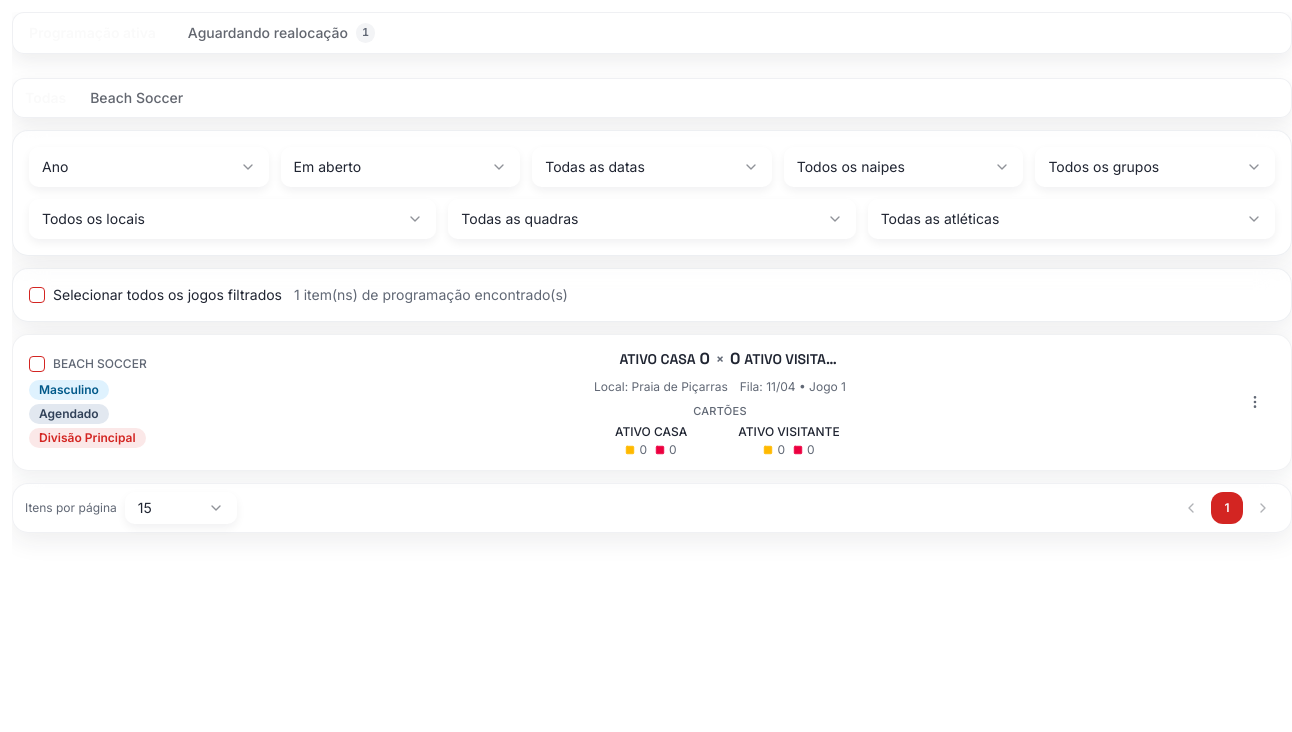
AdminMatches score sheet review › separa jogos guardados em uma subaba para realocação
Expected: the text "PENDENTE CASA" is not shown
Click the tab "Aguardando realocação 1": point(282, 33) [172,13,391,53]
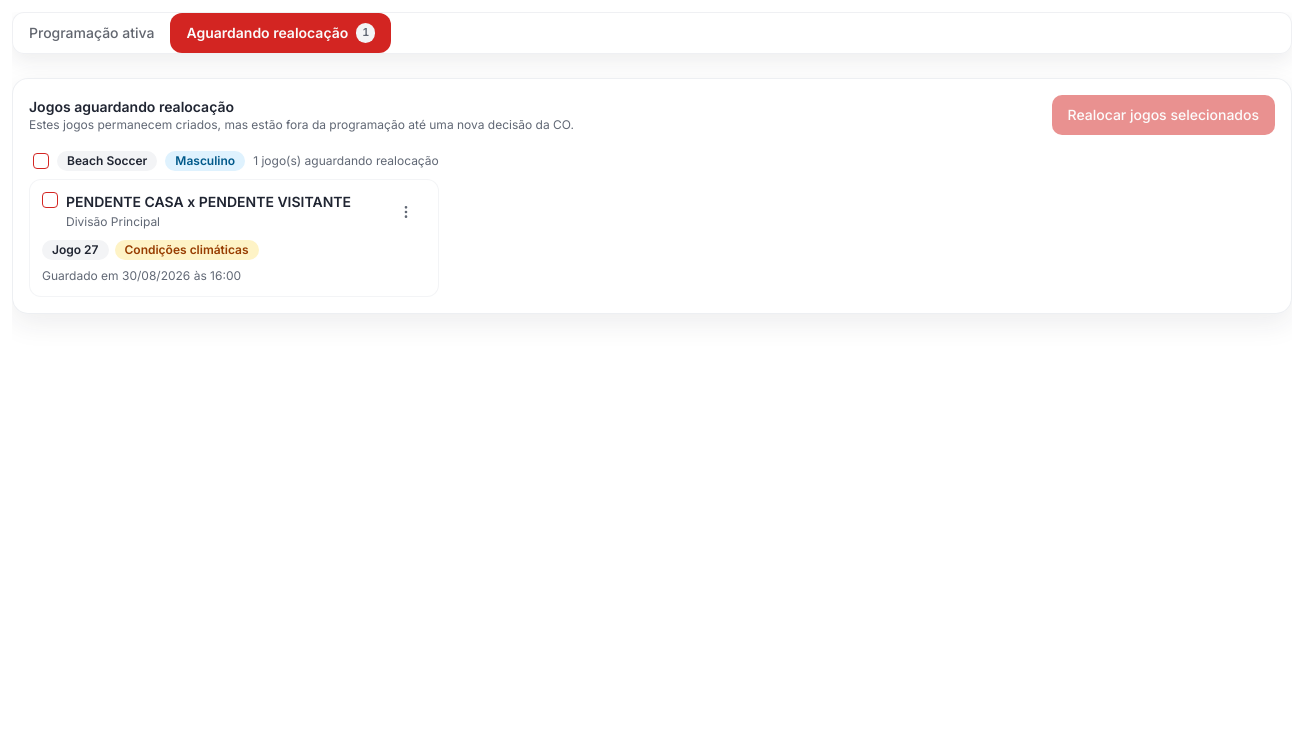
Expected: the text "Jogos aguardando realocação" is shown, [29,98,234,115]
Expected: the text "PENDENTE CASA x PENDENTE VISITANTE" is shown, [66,192,378,212]
Expected: the text "Jogo 27" is shown, [42,240,108,260]
